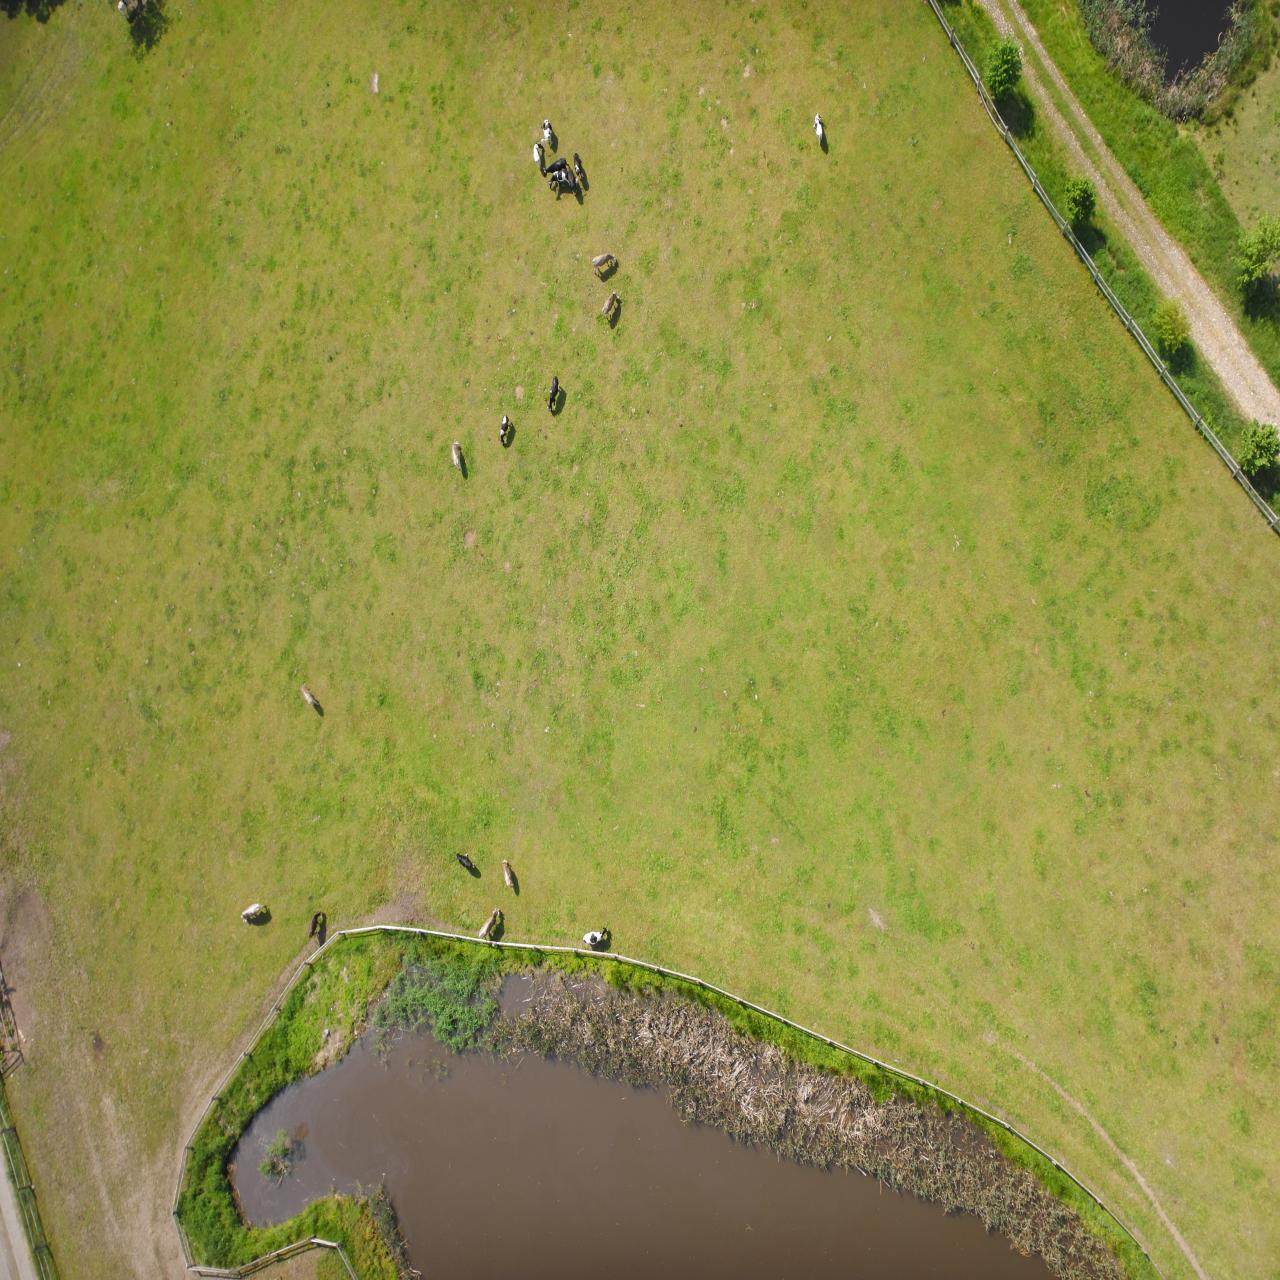cow: (779, 341, 802, 374), (720, 867, 733, 904), (1015, 358, 1039, 376), (663, 1009, 688, 1027), (958, 340, 973, 368), (672, 335, 697, 352), (710, 1090, 731, 1110), (661, 965, 678, 989), (962, 574, 980, 595), (767, 392, 778, 422), (818, 808, 829, 840), (456, 1133, 467, 1166), (805, 411, 823, 429), (770, 836, 779, 866), (737, 1110, 747, 1138), (728, 1136, 738, 1160), (696, 1102, 707, 1126), (702, 1087, 712, 1114)
